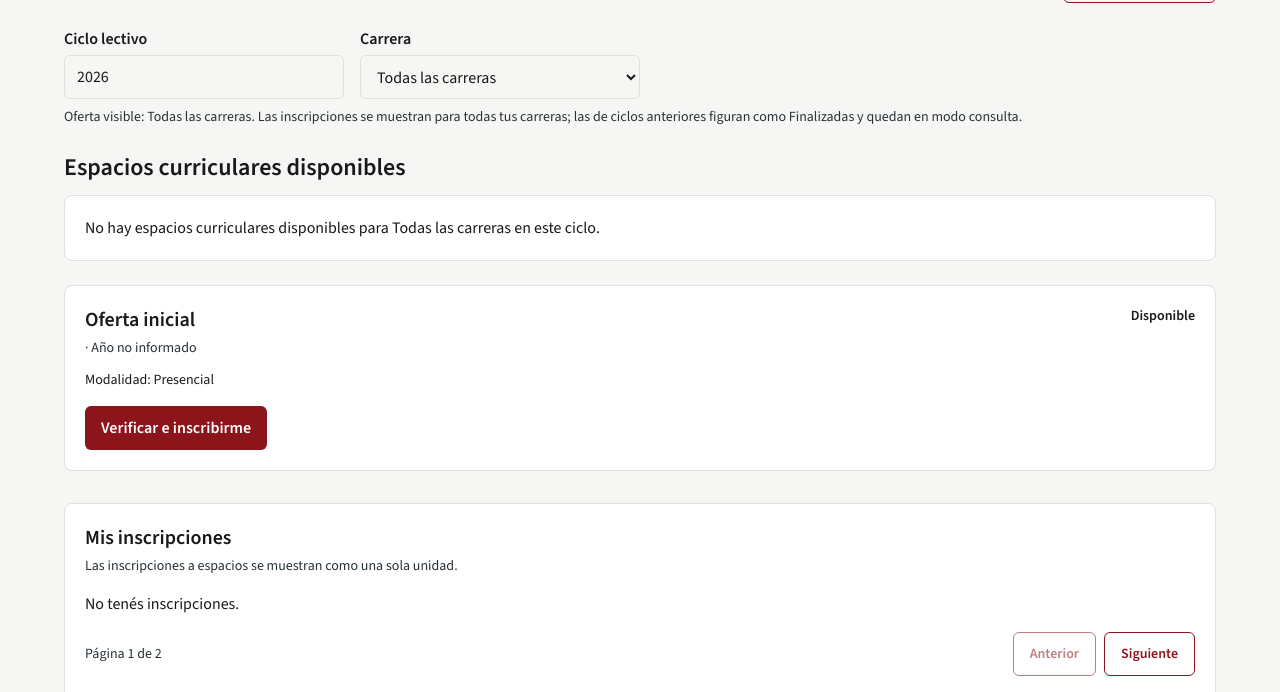
Scenario: SubjectEnrollmentsView › refreshes the offer when retrying a failed reload after a drop on page two
Click the button with aria-label "Página siguiente". click: click(1150, 654)
box: [1104,632,1195,676]
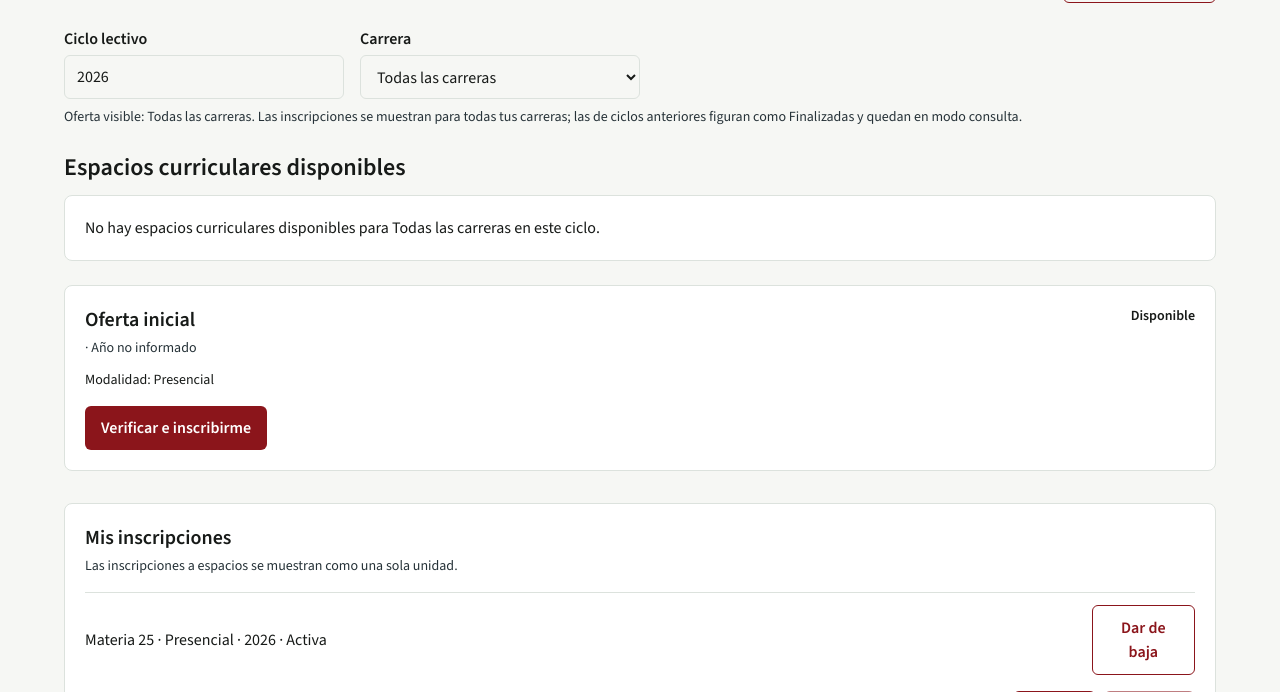
Click the button "Dar de baja". click: click(1143, 640)
box: [1092,605,1195,675]
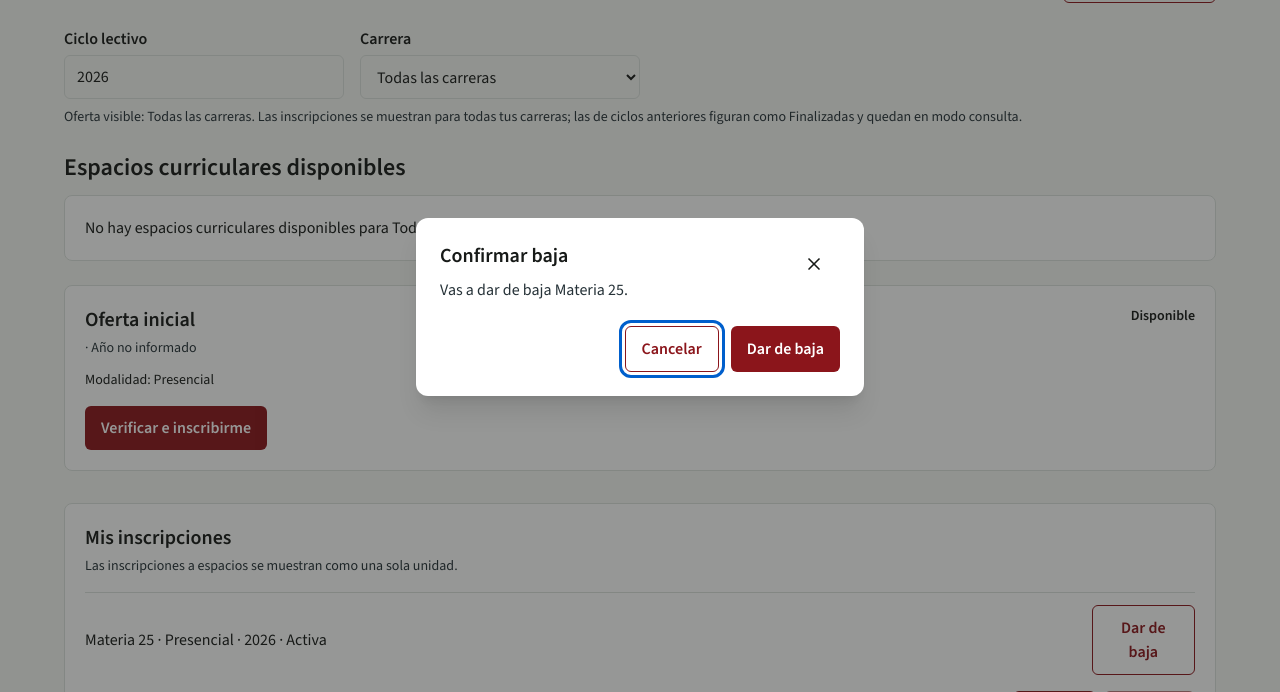
Click the button "Dar de baja". click: click(785, 349)
box: [731,326,840,372]
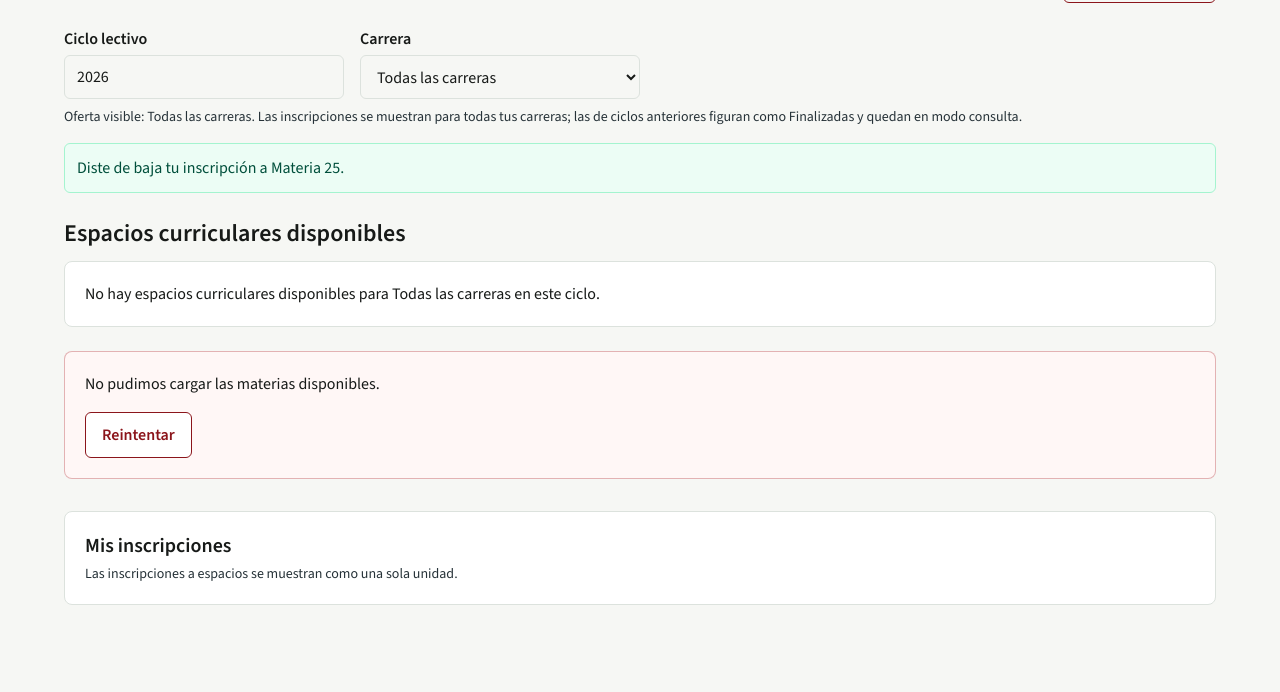
Check: the message "No pudimos cargar las materias disponibles. Reintentar" is shown, box [64,351,1216,479]
Click the button "Reintentar". click: click(138, 435)
box: [85,412,192,458]
(page scrolled)
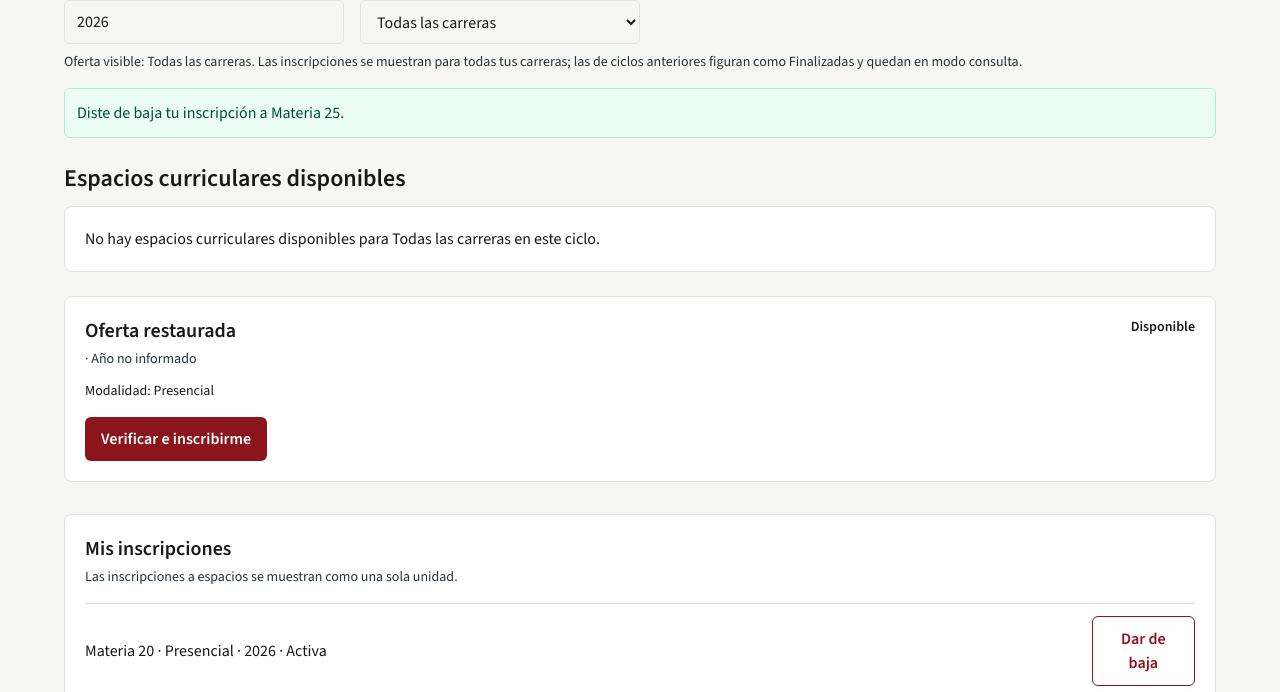
Check: the heading "Oferta restaurada" is shown, box [85,317,236,344]
Check: the text "Materia 20 · Presencial · 2026 · Activa" is shown, box [85,640,327,661]
